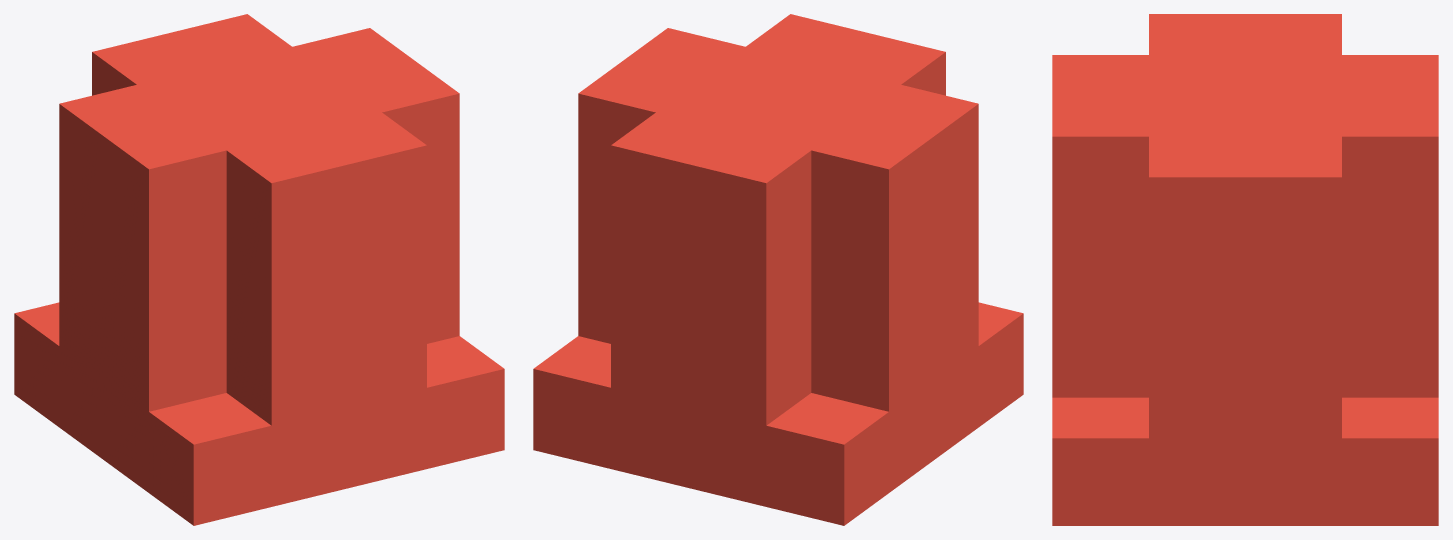
Rendered from Wall_Bottom_04.fbx.
3 views of the same model, side by side, from view 1: azimuth 30°, elevation 25°; view 2: azimuth 150°, elevation 25°; view 3: azimuth 270°, elevation 25° (orthographic). The views are drawn at different scales.
Visible parts, largest first — view 1: Cube.332; view 2: Cube.332; view 3: Cube.332.
Part boxes in pixels (bbox=[...]): Cube.332: bbox=[14, 14, 504, 525]; Cube.332: bbox=[533, 14, 1023, 525]; Cube.332: bbox=[1052, 14, 1438, 525].
Bounding box in the file's own units: 100 × 99.54 × 100.
